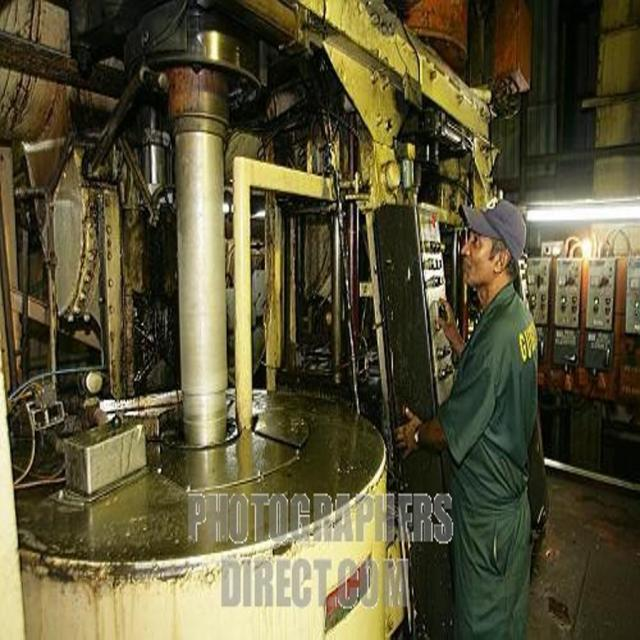nomask: (462, 213, 496, 286)
